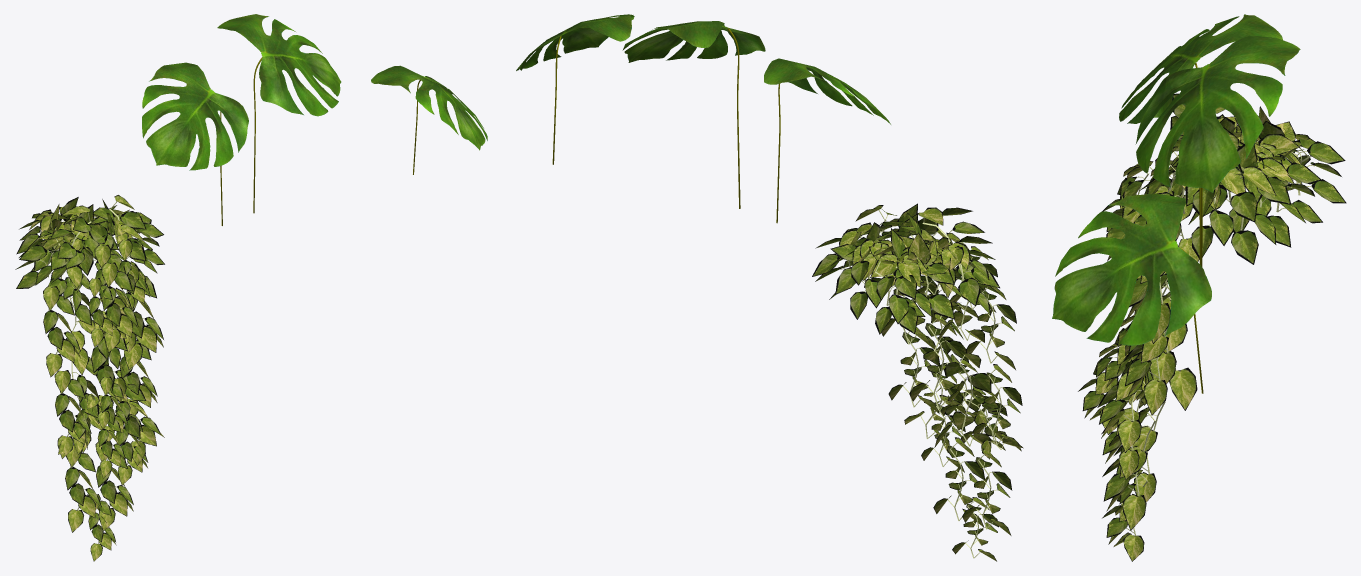
The model's file is vegitationPlantsPots_edit_for_FBX.fbx.
The picture shows the model from 3 angles, left to right: view 1: azimuth 30°, elevation 25°; view 2: azimuth 150°, elevation 25°; view 3: azimuth 270°, elevation 25°; orthographic projection. The views are drawn at different scales.
Visible parts, largest first — view 1: Plants04, Plants02, Plants01, Plants03; view 2: Plants04, Plants01, Plants03, Plants02; view 3: Plants04, Plants03, Plants01, Plants02.
Boxes of the visible parts, x1,y1,x2,y2 form: Plants04: (15,195,164,561); Plants02: (142,62,248,225); Plants01: (217,14,341,213); Plants03: (371,65,487,174); Plants04: (812,203,1023,561); Plants01: (622,21,765,208); Plants03: (516,14,634,164); Plants02: (764,58,890,223); Plants04: (1078,93,1346,561); Plants03: (1052,193,1211,393); Plants01: (1135,35,1300,266); Plants02: (1119,14,1282,264).
Size of the model in its own units: 1083 by 1081 by 448.
